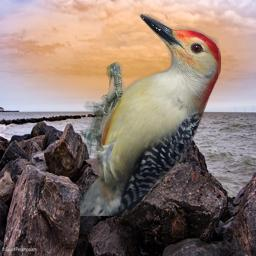Woodpecker: (80, 14, 221, 216)
